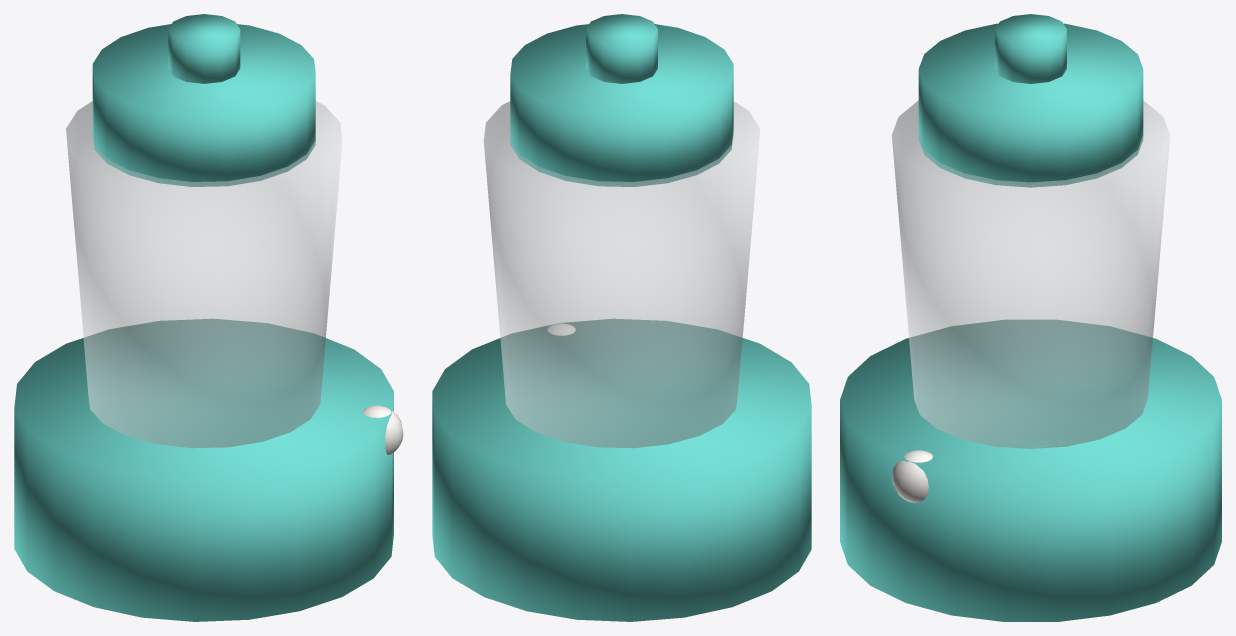
The model's file is shaker.glb.
3 views of the same model, side by side, from view 1: azimuth 30°, elevation 25°; view 2: azimuth 150°, elevation 25°; view 3: azimuth 270°, elevation 25° (orthographic).
Visible parts, largest first — view 1: Base, Glass, Cap, Knob, Button; view 2: Base, Glass, Cap, Knob; view 3: Base, Glass, Cap, Knob, Button.
Boxes of the visible parts, x1,y1,x2,y2 form: Base: (14, 319, 393, 621); Glass: (66, 101, 342, 448); Cap: (92, 24, 315, 186); Knob: (168, 14, 240, 83); Button: (362, 405, 403, 455); Base: (432, 319, 811, 621); Glass: (483, 101, 760, 448); Cap: (510, 24, 733, 186); Knob: (586, 14, 657, 83); Base: (840, 320, 1221, 621); Glass: (891, 100, 1170, 448); Cap: (918, 23, 1143, 187); Knob: (995, 14, 1066, 83); Button: (891, 450, 932, 502).
Size of the model in its own units: 0.1683 by 0.252 by 0.17.
